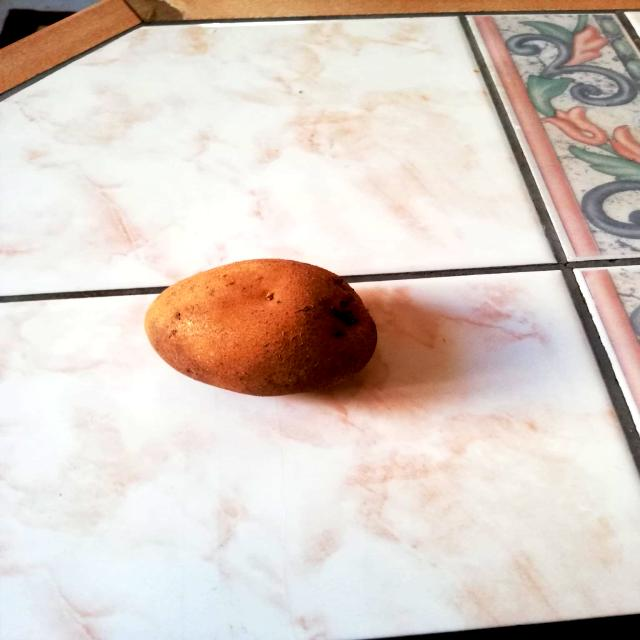potato: (133, 251, 392, 402)
